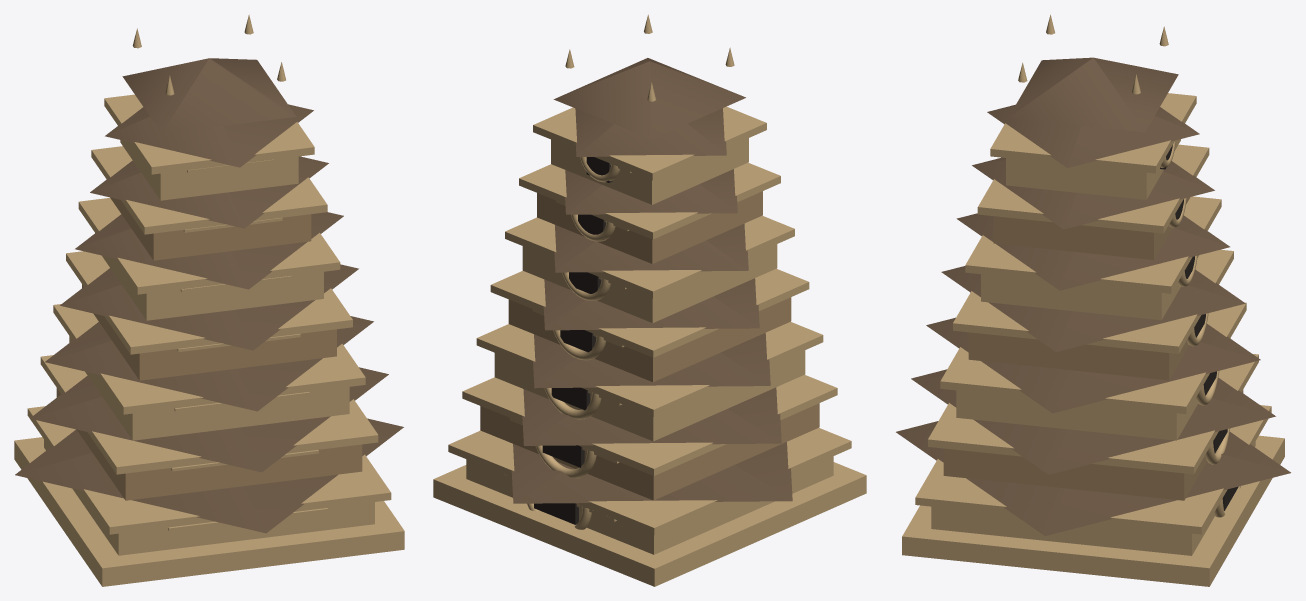
3 views of the same model, side by side, from view 1: azimuth 30°, elevation 25°; view 2: azimuth 150°, elevation 25°; view 3: azimuth 270°, elevation 25° (orthographic). The views are drawn at different scales.
Parts seen in each view (by area): view 1: Roof_Eave (×8), Floor_Body (×7), Eave_Band (×7), Foundation_Platform; view 2: Roof_Eave (×8), Floor_Body (×7), Eave_Band (×7), Foundation_Platform, Door_Reveal (×4), Arched_Door_Frame (×3); view 3: Roof_Eave (×8), Floor_Body (×7), Eave_Band (×7), Foundation_Platform.
Part boxes in pixels (x1,y1,x2,y2): Roof_Eave (×8): [15, 58, 403, 533]; Floor_Body (×7): [44, 140, 374, 555]; Eave_Band (×7): [27, 94, 391, 534]; Foundation_Platform: [14, 437, 404, 586]; Roof_Eave (×8): [511, 58, 792, 503]; Floor_Body (×7): [466, 138, 833, 554]; Eave_Band (×7): [448, 106, 851, 535]; Foundation_Platform: [433, 462, 866, 586]; Door_Reveal (×4): [534, 330, 595, 524]; Arched_Door_Frame (×3): [535, 330, 606, 478]; Roof_Eave (×8): [896, 57, 1290, 535]; Floor_Body (×7): [931, 139, 1255, 555]; Eave_Band (×7): [915, 93, 1271, 534]; Foundation_Platform: [902, 435, 1284, 586].
Size of the model in its own units: 5.76 by 7.41 by 5.76.
